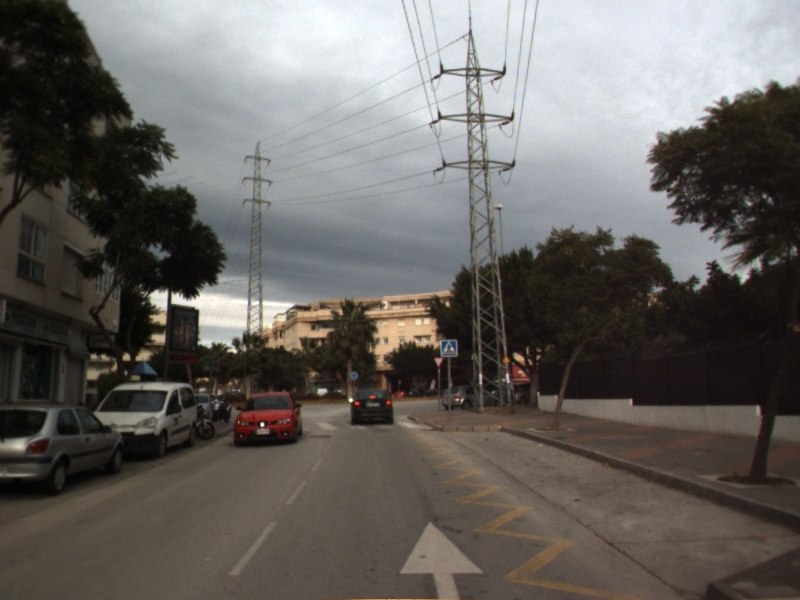STRAIGHT: (395, 518, 489, 600)
